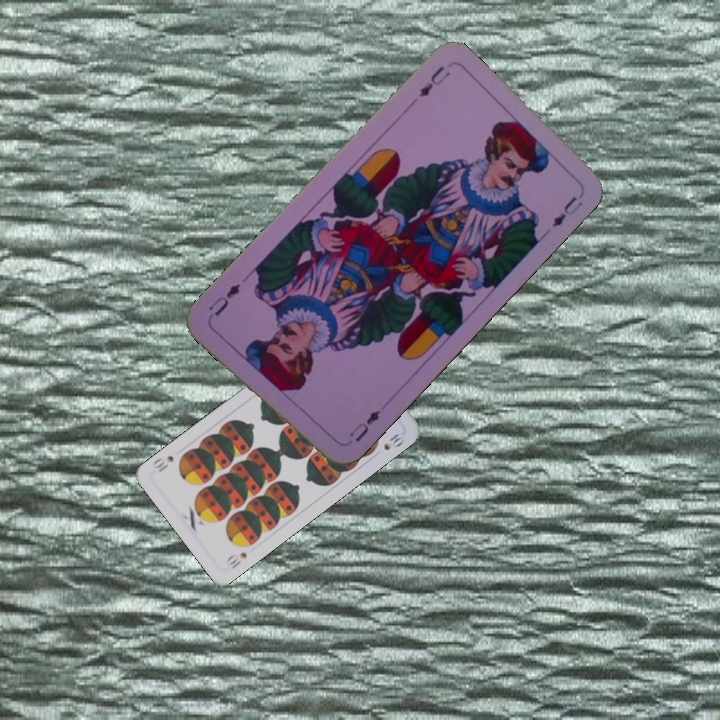EU: (414, 61, 453, 100), (345, 406, 383, 445)
S10: (222, 548, 249, 572)
